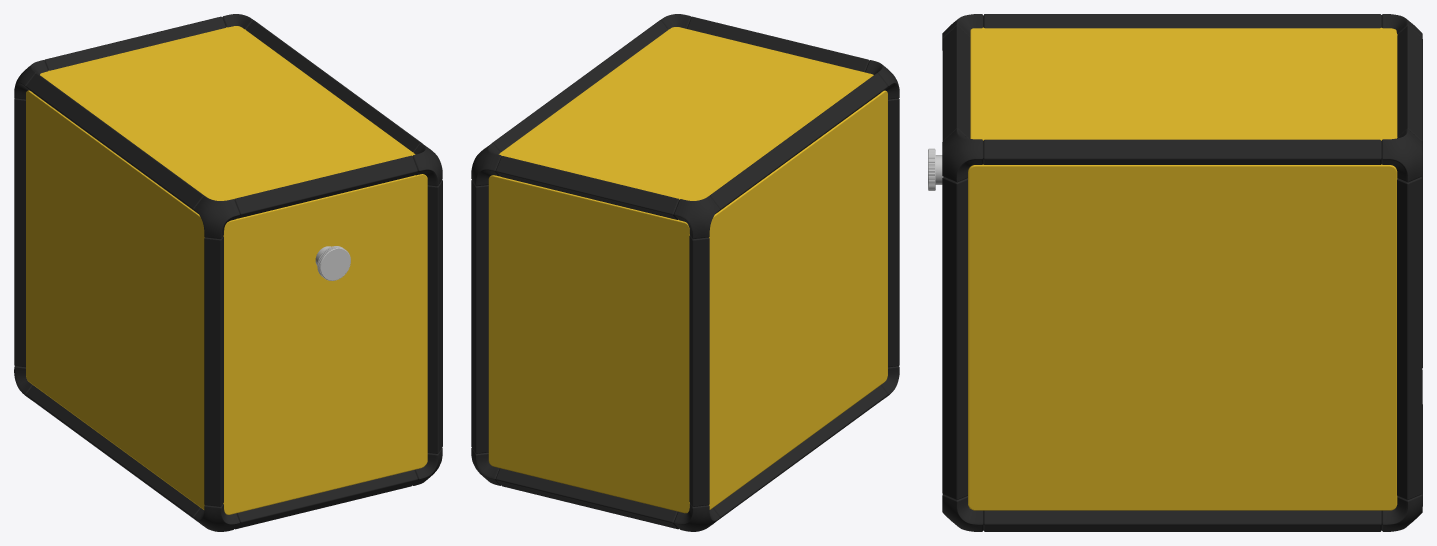
The picture shows the model from 3 angles, left to right: view 1: azimuth 30°, elevation 25°; view 2: azimuth 150°, elevation 25°; view 3: azimuth 270°, elevation 25°; orthographic projection. The views are drawn at different scales.
Visible parts, largest first — view 1: 229x374x329; view 2: 229x374x329; view 3: 229x374x329.
Boxes of the visible parts, <box> form: 229x374x329: <box>14,14,442,531</box>; 229x374x329: <box>471,14,899,531</box>; 229x374x329: <box>928,14,1422,531</box>.
Size of the model in its own units: 0.3067 by 0.4065 by 0.4646.
